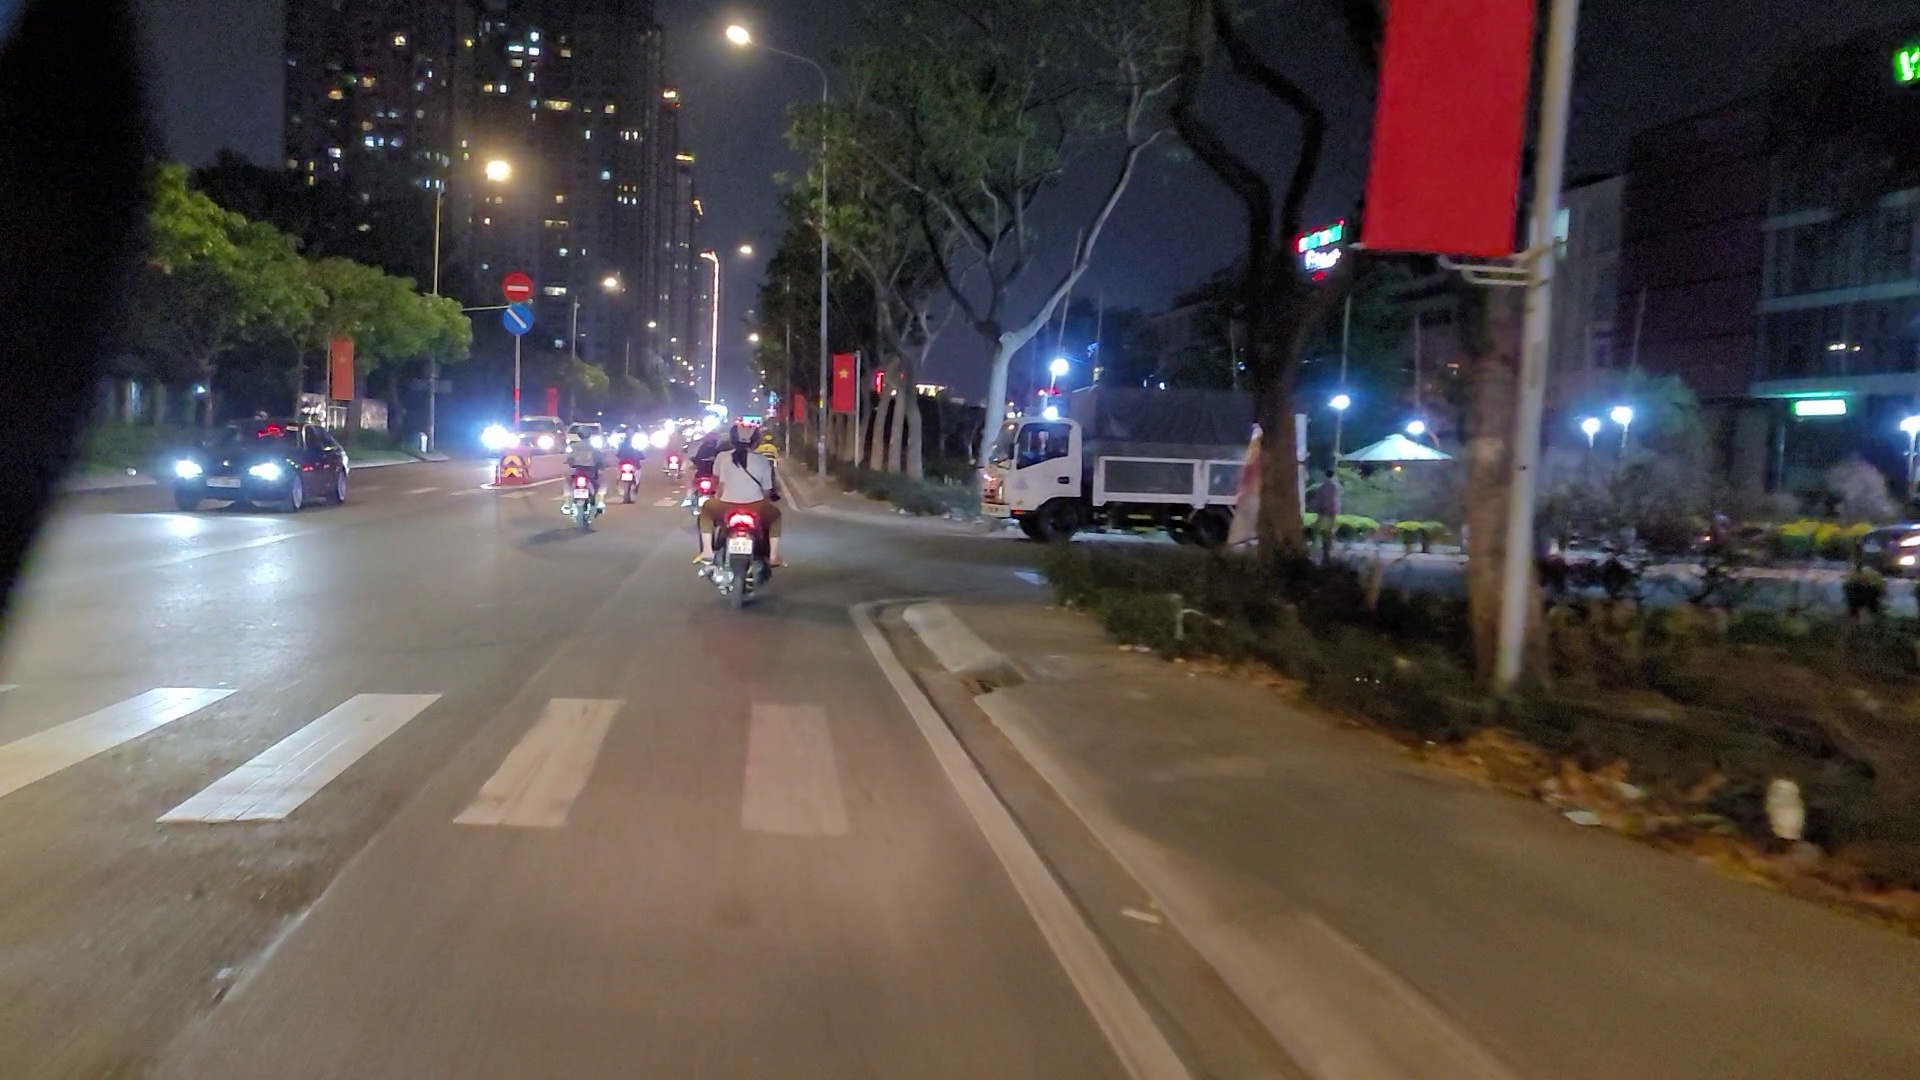Cam di nguoc chieu: (501, 272, 535, 302)
Huong di phai re phai: (504, 305, 531, 334)
